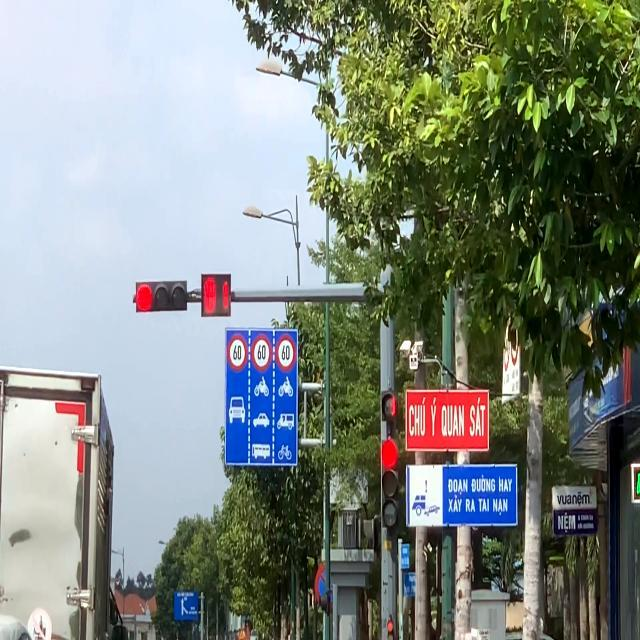Toc do toi da cho phep: (226, 334, 248, 374), (250, 334, 272, 374), (276, 334, 297, 372)
